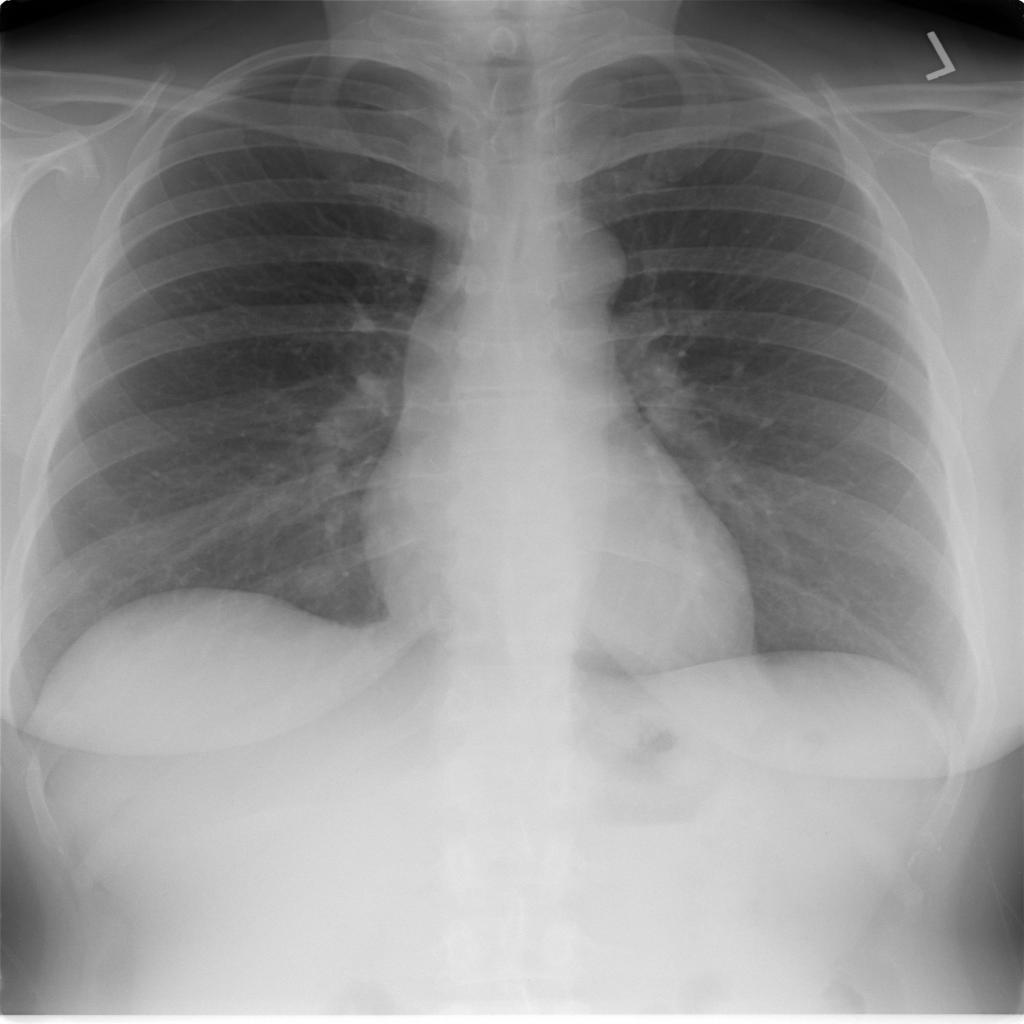Nodule: (387, 166, 440, 205)
